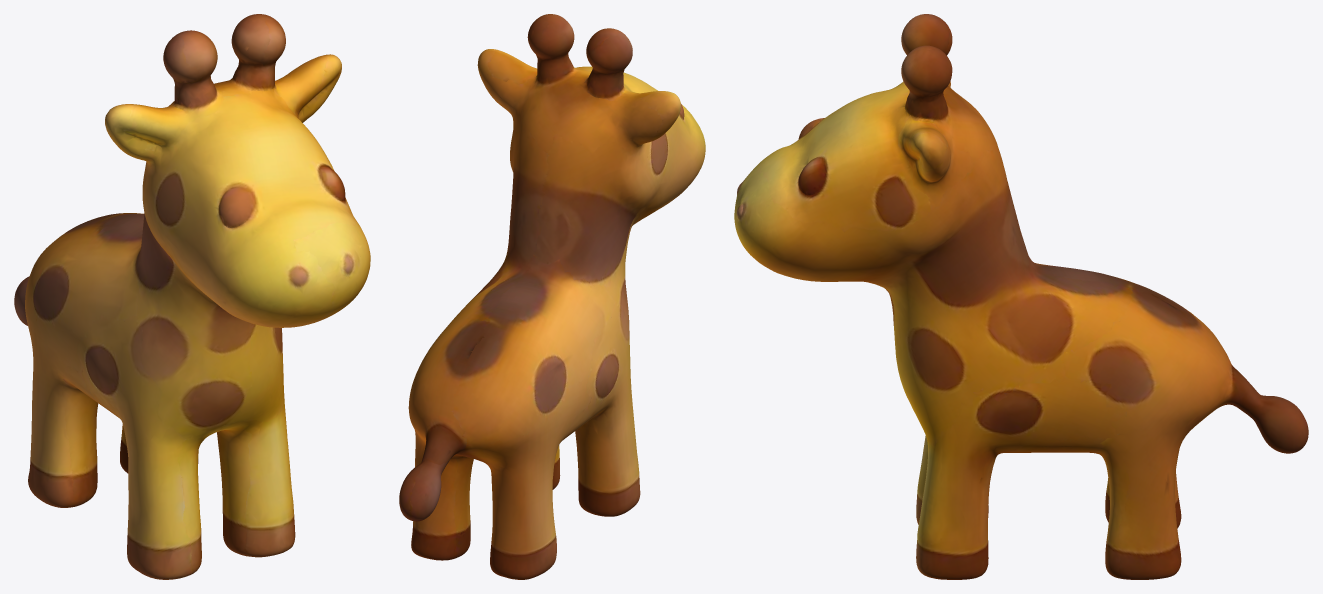
File: giraffe_pbr.glb
The picture shows the model from 3 angles, left to right: view 1: azimuth 30°, elevation 25°; view 2: azimuth 150°, elevation 25°; view 3: azimuth 270°, elevation 25°; orthographic projection. The views are drawn at different scales.
Parts seen in each view (by area): view 1: model; view 2: model; view 3: model.
Part boxes in pixels (bbox=[...]): model: bbox=[14, 14, 370, 579]; model: bbox=[399, 14, 705, 579]; model: bbox=[734, 14, 1308, 579].
Size of the model in its own units: 0.7832 by 1.73 by 1.75.
1 material, 1 textured.
